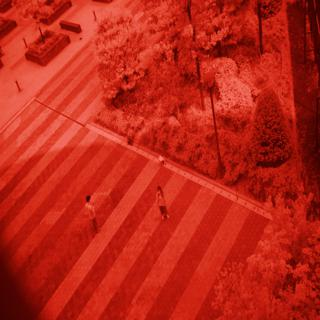person: (151, 178, 177, 225), (79, 188, 100, 236)
